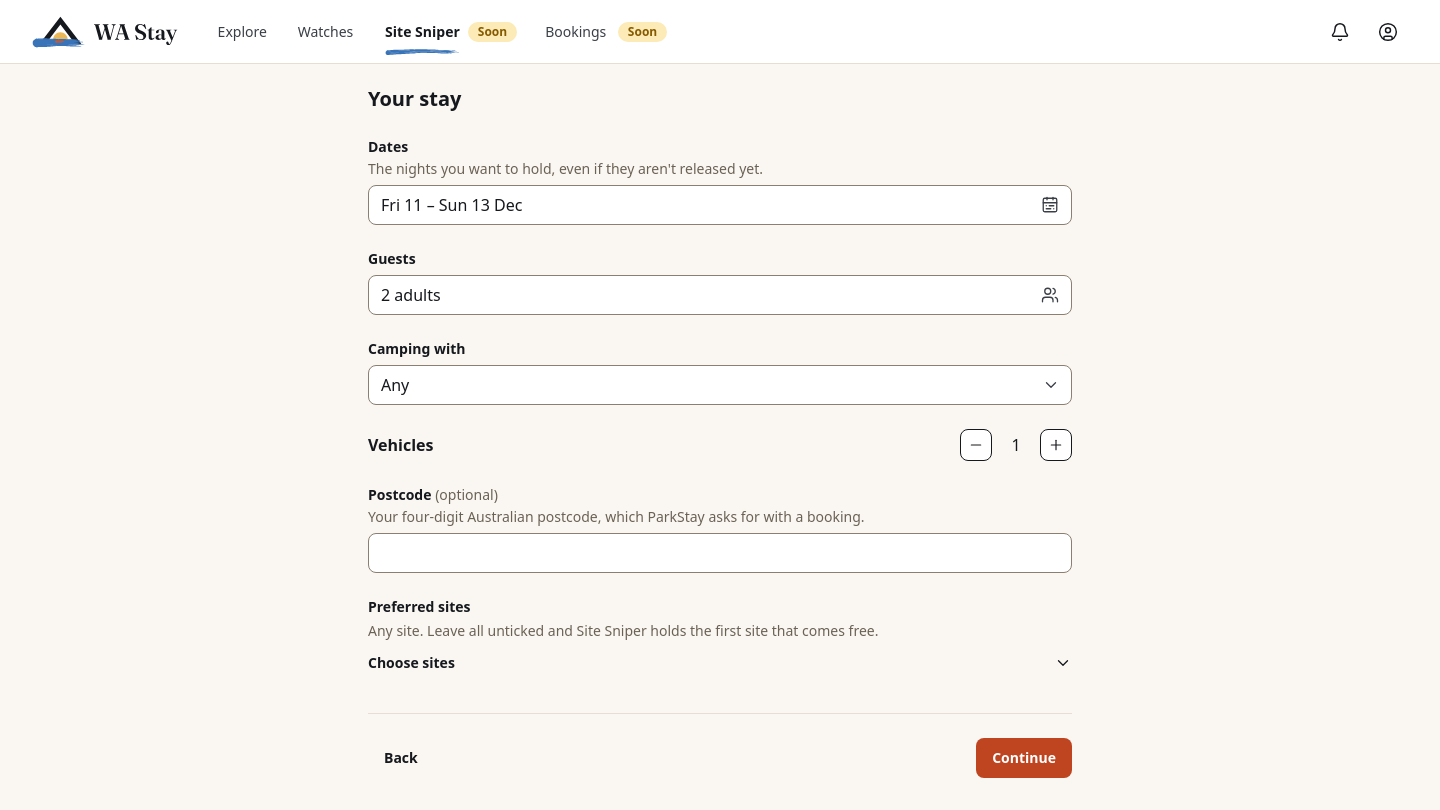
NewSnipePage at a place with sites and cabins › asks for nothing at a place with sites only, as before
(page scrolled)
Expected: the text "Preferred sites" is shown, top-left (368, 597), bottom-right (471, 616)
What coordinates should you click on to do the following:
click the button "Continue"
I would click on:
 (1024, 758)
Its box is top-left (976, 738), bottom-right (1072, 778).
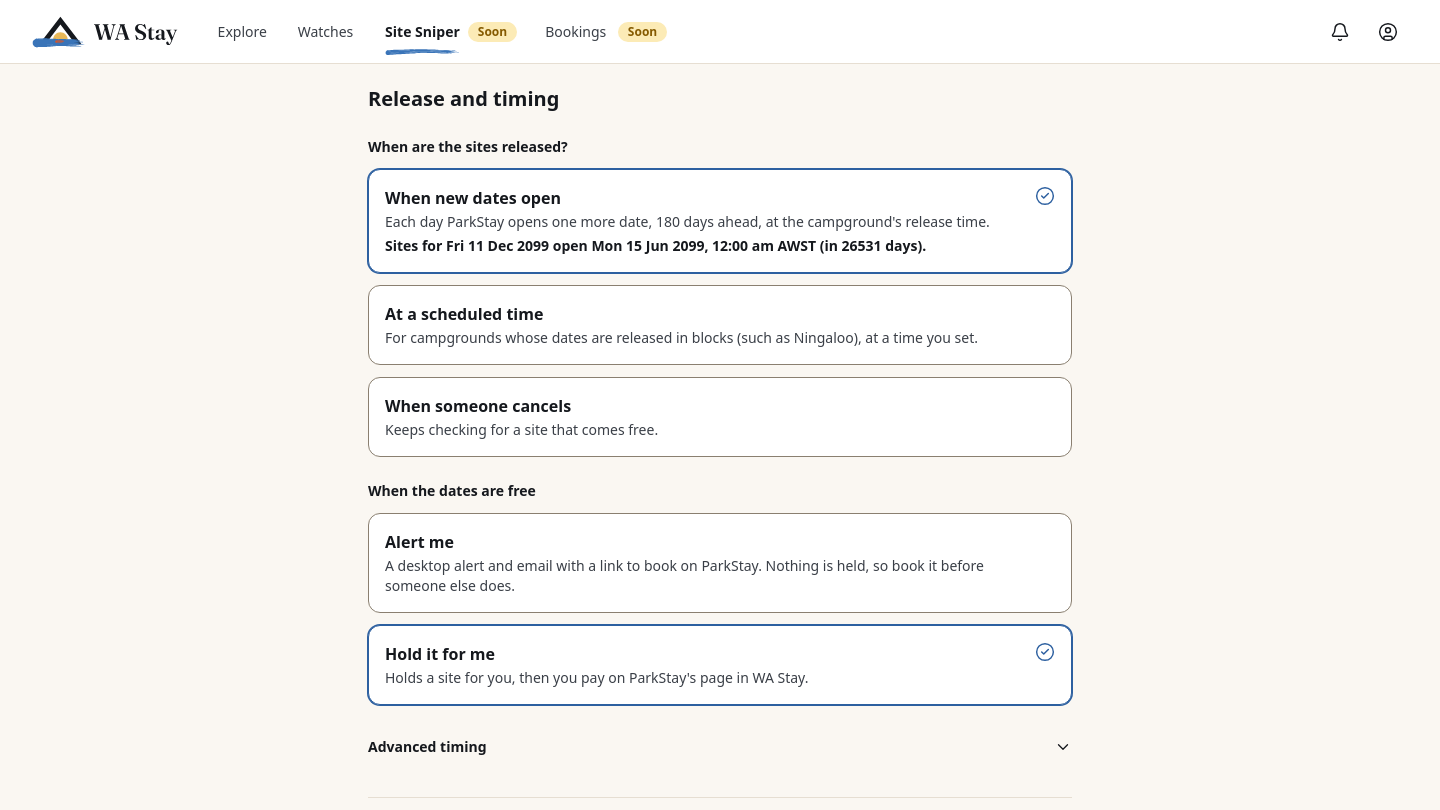
Expected: the heading "Release and timing" is shown, top-left (367, 84), bottom-right (559, 112)
